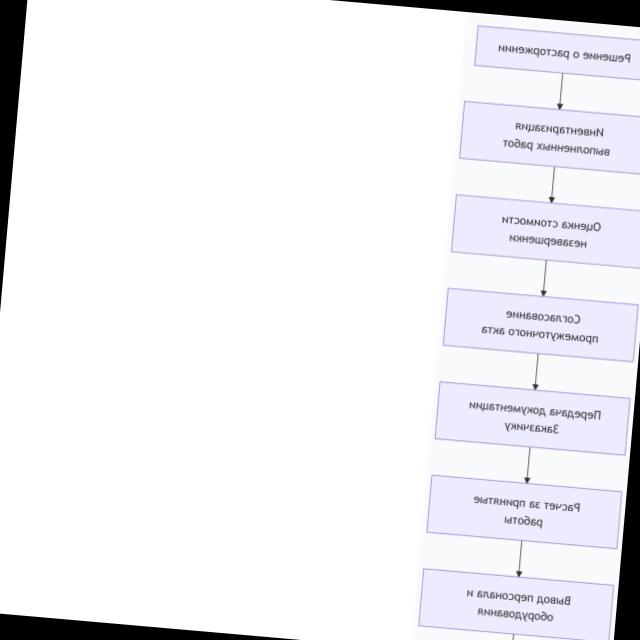arrow: (515, 541, 522, 577), (540, 261, 547, 296), (523, 448, 530, 483), (548, 167, 555, 202), (556, 74, 563, 108), (532, 354, 538, 389)
rectangle: (433, 380, 629, 457), (426, 473, 621, 550), (442, 287, 638, 362), (450, 194, 640, 268), (418, 569, 612, 640), (459, 101, 640, 174), (473, 25, 640, 81)
